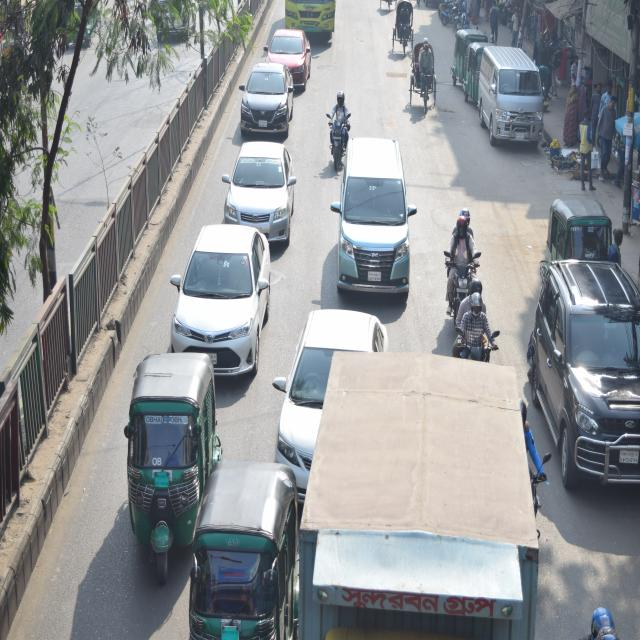bus: (284, 0, 339, 44)
car: (524, 257, 640, 484), (278, 296, 382, 468), (168, 224, 276, 371), (222, 135, 304, 239), (237, 60, 300, 142), (267, 21, 318, 76)
microbus: (338, 130, 417, 296), (476, 36, 546, 151)
motorbike: (444, 297, 499, 374), (320, 95, 360, 175), (439, 230, 473, 310), (440, 0, 474, 28)
pickup-van: (282, 347, 548, 640)
